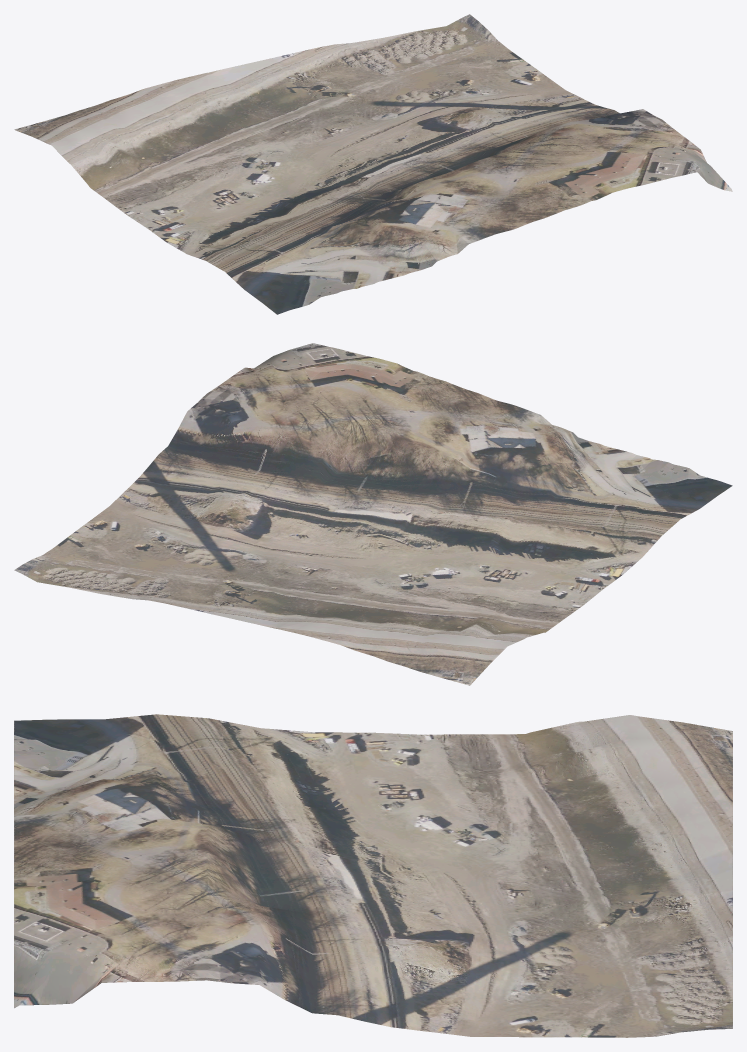
File: CM_Terrain_24487182_6821841.fbx
3 views of the same model, one above another, from view 1: azimuth 30°, elevation 25°; view 2: azimuth 150°, elevation 25°; view 3: azimuth 270°, elevation 25° (orthographic). The views are drawn at different scales.
Parts seen in each view (by area): view 1: CM_Terrain_24487182_6821841_LOD0; view 2: CM_Terrain_24487182_6821841_LOD0; view 3: CM_Terrain_24487182_6821841_LOD0.
Boxes of the visible parts, x1,y1,x2,y2 form: CM_Terrain_24487182_6821841_LOD0: [14, 14, 732, 314]; CM_Terrain_24487182_6821841_LOD0: [14, 343, 732, 685]; CM_Terrain_24487182_6821841_LOD0: [14, 714, 732, 1037].
Size of what is drawn, in the model's own units: 205 by 23.21 by 205.
